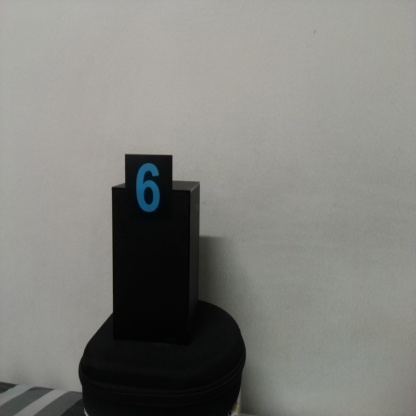id_6: (125, 155, 174, 235)
